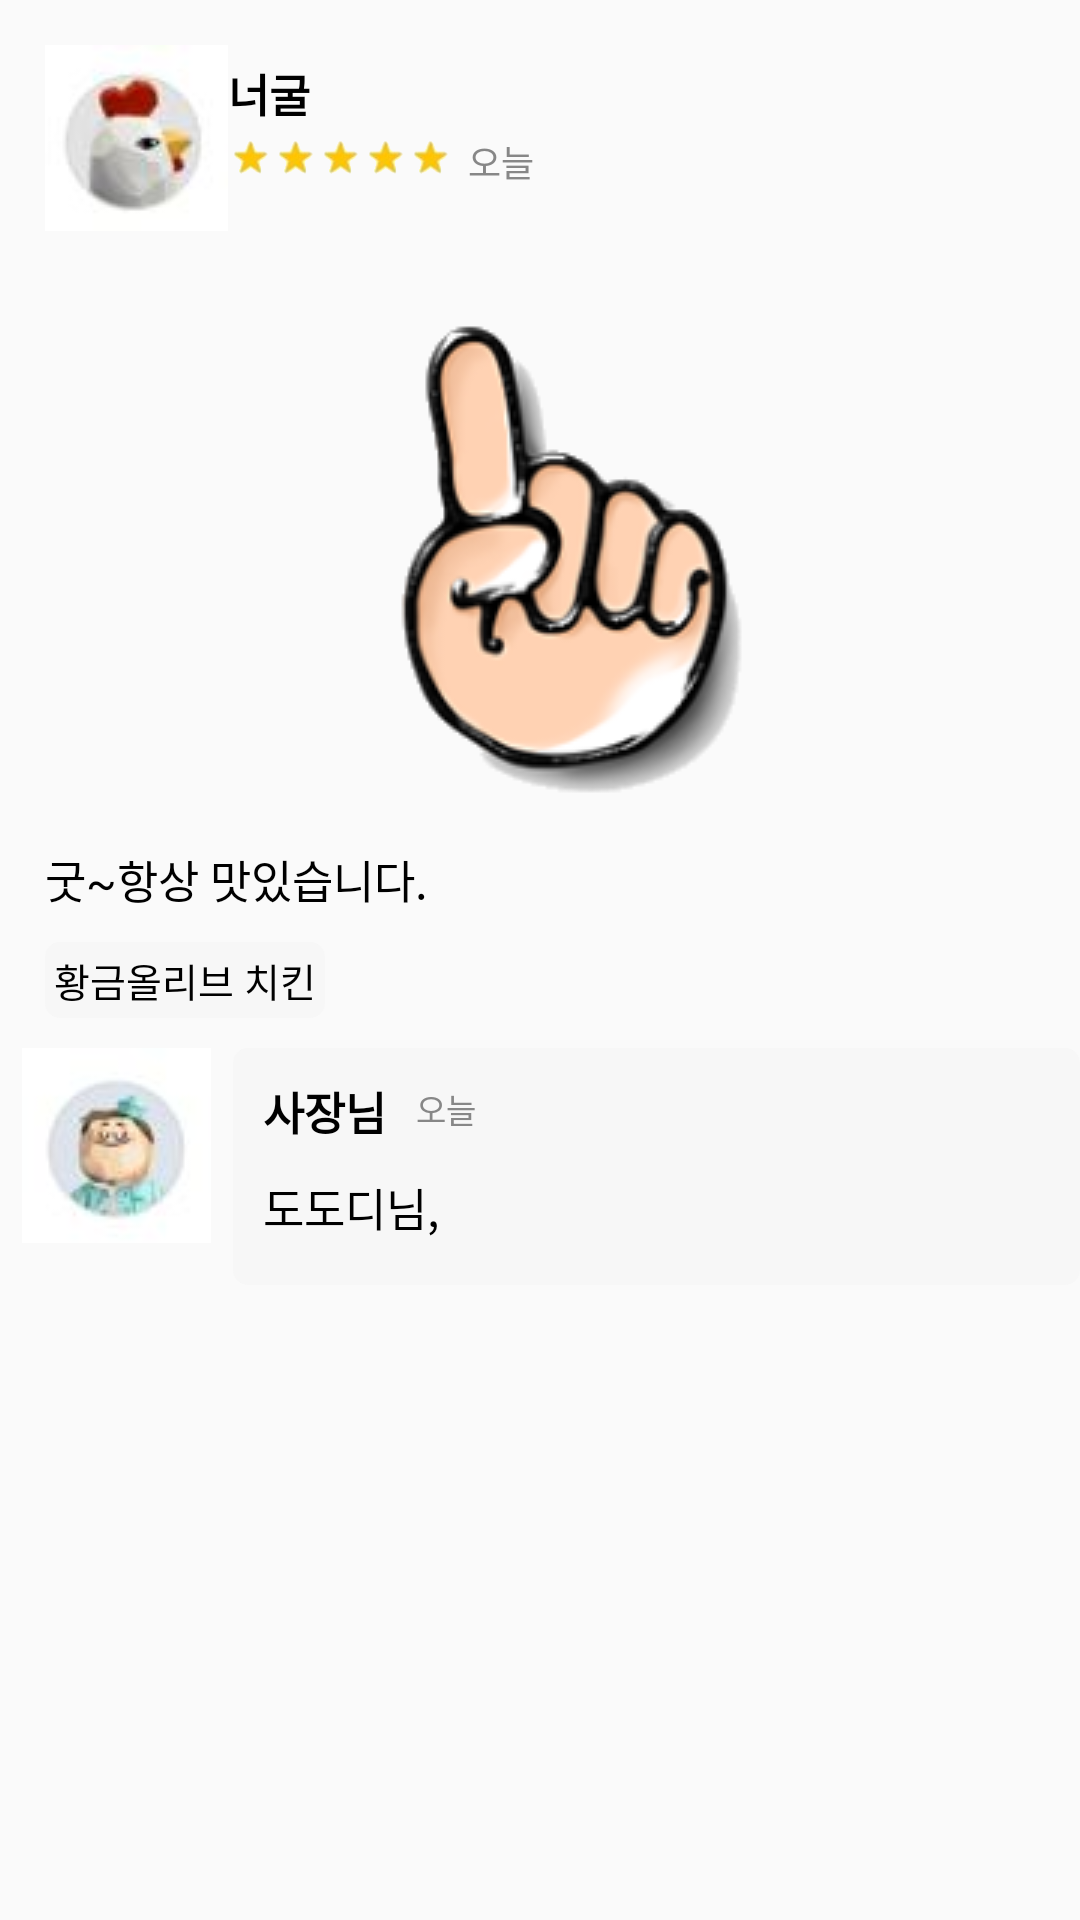

Where to tap for icons on this 1080px x 1920px app screen, as [x,y]:
star: [251,157], [296,157], [341,157], [386,157], [431,157]
